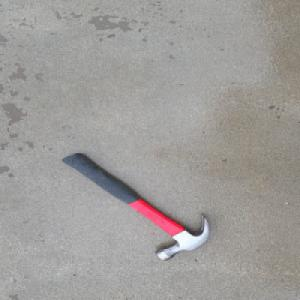Hammer: (61, 151, 214, 265)
